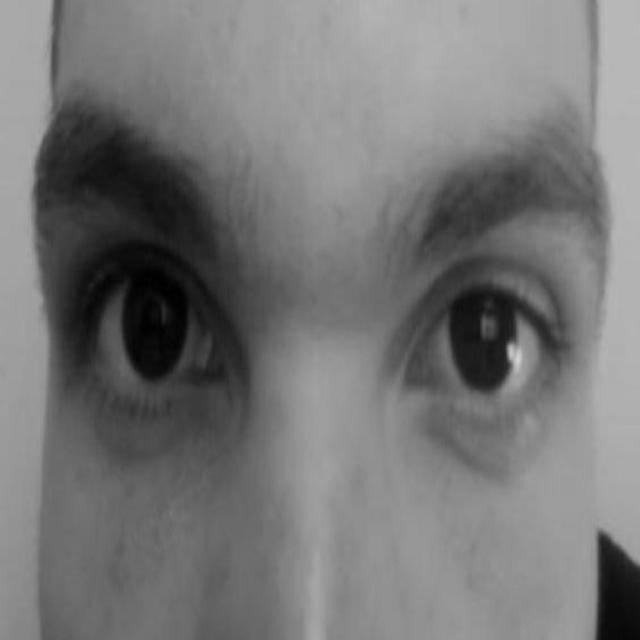real: (42, 122, 596, 534)
